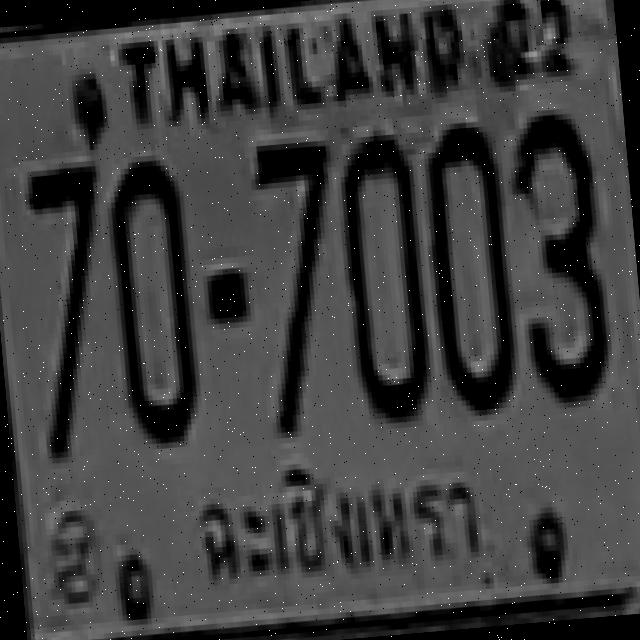0: (416, 117, 518, 410), (334, 127, 432, 420), (103, 153, 200, 440)
3: (505, 106, 611, 400)
7: (248, 134, 350, 433), (250, 134, 350, 406), (22, 163, 116, 450), (252, 134, 341, 324), (252, 137, 339, 306)
Chachoengsao: (175, 436, 508, 614)
